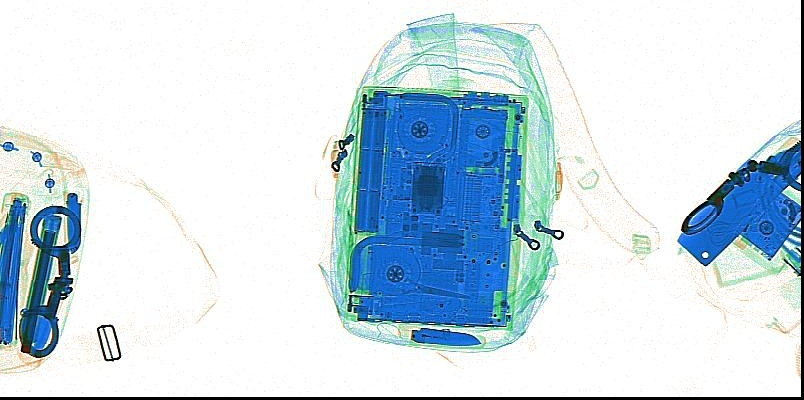handcuffs: (680, 138, 799, 235), (18, 204, 81, 359)
knife: (676, 143, 799, 266), (408, 325, 485, 350), (61, 189, 82, 265), (33, 299, 56, 349)
scissors: (371, 259, 472, 300)
